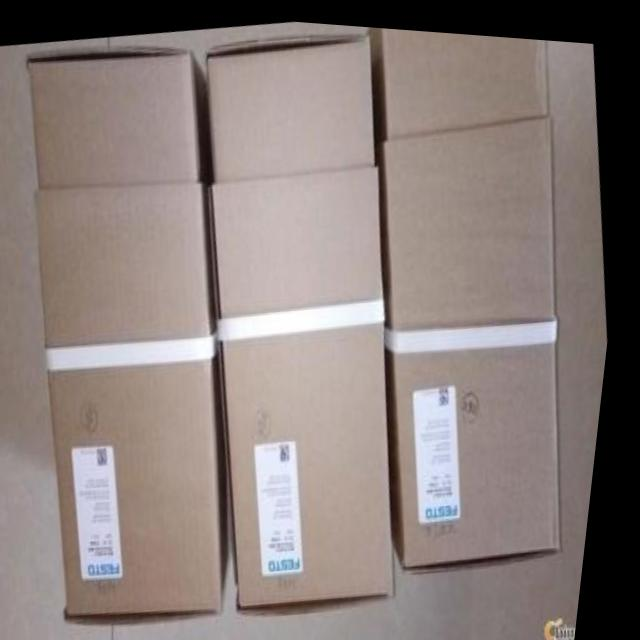box: (27, 44, 242, 617), (207, 30, 408, 604), (368, 22, 573, 568)
